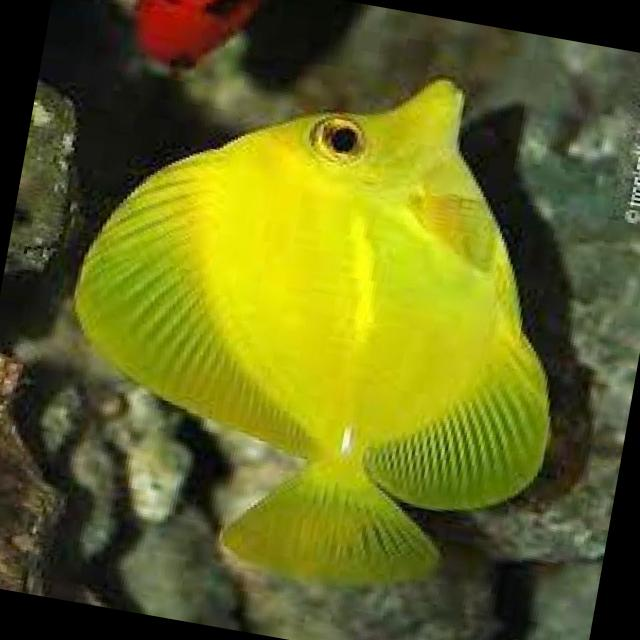YellowTang: (16, 8, 619, 632)
